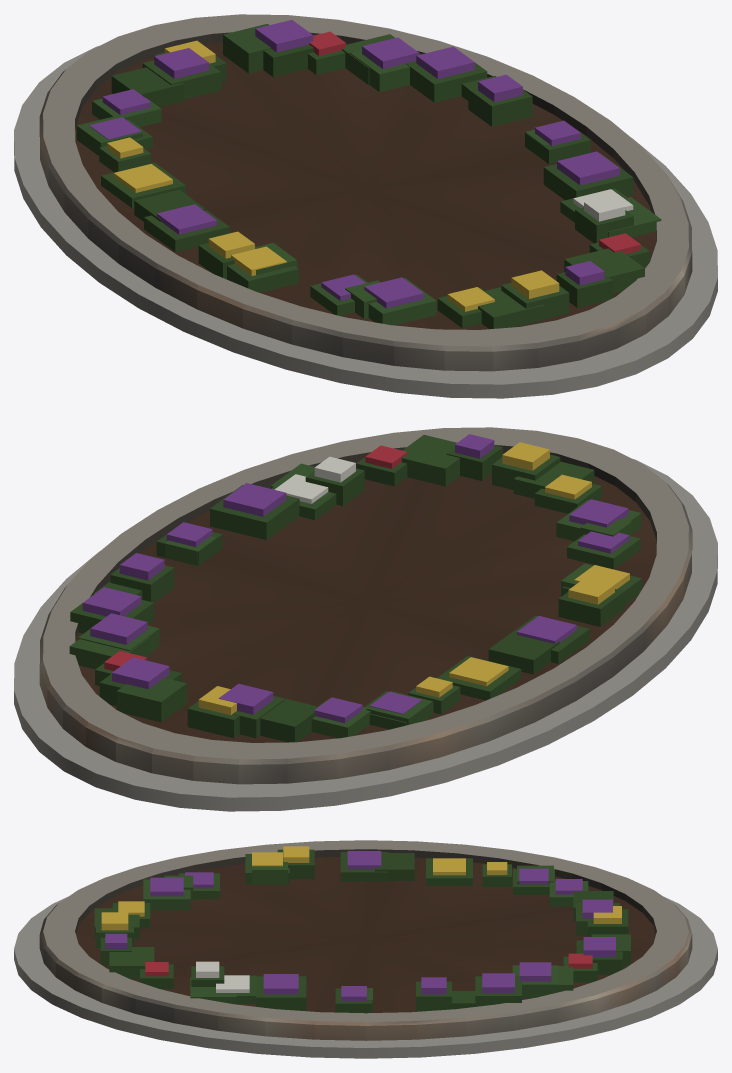
The model's file is monument.island_bed.summer.glb.
3 views of the same model, one above another, from view 1: azimuth 30°, elevation 25°; view 2: azimuth 150°, elevation 25°; view 3: azimuth 270°, elevation 25° (orthographic). The views are drawn at different scales.
Parts seen in each view (by area): view 1: monument_island_bed_summer; view 2: monument_island_bed_summer; view 3: monument_island_bed_summer.
Part boxes in pixels (left/top/right/bottom): monument_island_bed_summer: left=14, top=14, right=717, bottom=398; monument_island_bed_summer: left=14, top=427, right=717, bottom=811; monument_island_bed_summer: left=14, top=840, right=717, bottom=1058.
Size of what is drawn, in the model's own units: 6 by 0.6149 by 9.
